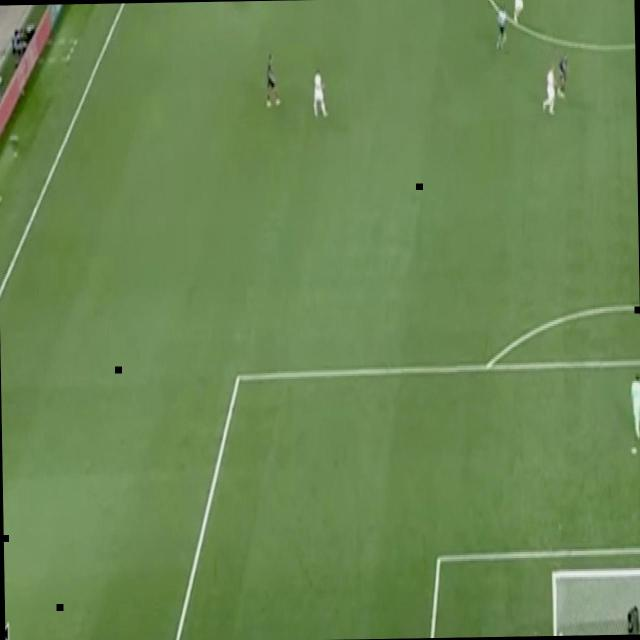ball: (0, 73, 2, 84)
player-white: (311, 63, 331, 121), (265, 50, 283, 110), (541, 61, 559, 117), (494, 0, 510, 53), (556, 50, 570, 102), (631, 369, 640, 439), (513, 0, 527, 26)
